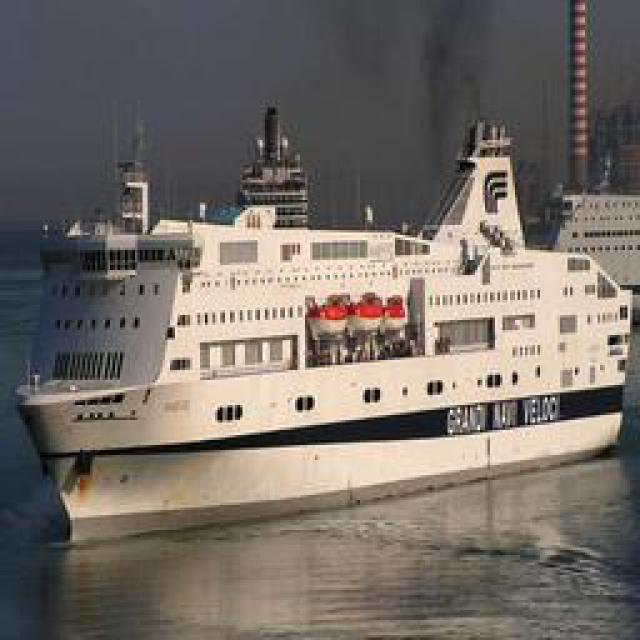Ship: (22, 99, 625, 484)
